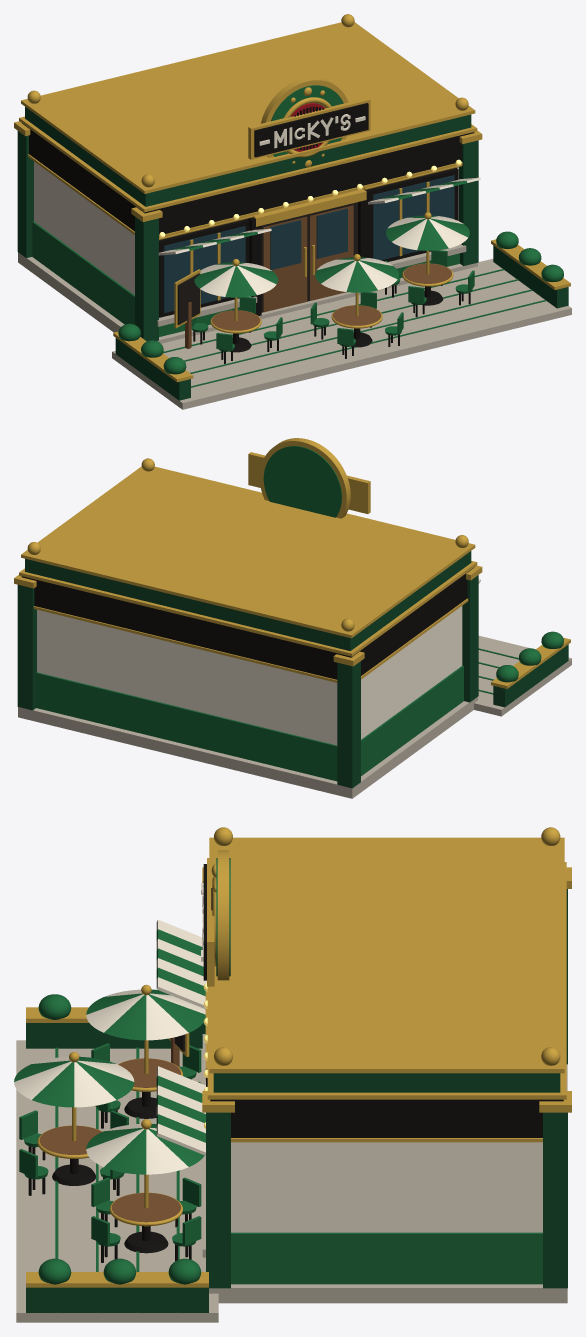
The model's file is mickys.glb.
3 views of the same model, one above another, from view 1: azimuth 30°, elevation 25°; view 2: azimuth 150°, elevation 25°; view 3: azimuth 270°, elevation 25° (orthographic). The views are drawn at different scales.
Parts seen in each view (by area): view 1: parapet_cap, terrace_slab, fascia_band, wall_body, parapet, wainscot, terrace, window_glass_right, window_glass_left, fascia_trim_top, plinth, pilaster_front_left (+33 smaller); view 2: parapet_cap, wall_body, wainscot, fascia_band, plinth, parapet, roundel_green_field, pilaster_back_left, fascia_trim_top, terrace_slab, pilaster_back_right, pilaster_front_left (+6 smaller); view 3: parapet_cap, wall_body, terrace_slab, wainscot, fascia_band, parapet, plinth, terrace_wall_right, pilaster_back_right, pilaster_front_right, fascia_trim_top, terrace (+24 smaller).
Part boxes in pixels (x1=…): parapet_cap: x1=21, y1=22, x2=475, y2=193; terrace_slab: x1=112, y1=258, x2=571, y2=409; fascia_band: x1=22, y1=123, x2=474, y2=235; wall_body: x1=34, y1=161, x2=458, y2=294; parapet: x1=25, y1=107, x2=471, y2=206; wainscot: x1=32, y1=221, x2=459, y2=336; terrace: x1=118, y1=231, x2=563, y2=387; window_glass_right: x1=373, y1=175, x2=454, y2=260; window_glass_left: x1=163, y1=226, x2=245, y2=313; fascia_trim_top: x1=19, y1=116, x2=477, y2=212; plinth: x1=18, y1=252, x2=477, y2=343; pilaster_front_left: x1=135, y1=217, x2=158, y2=341; parapet_cap: x1=21, y1=466, x2=475, y2=638; wall_body: x1=37, y1=606, x2=462, y2=745; wainscot: x1=36, y1=665, x2=463, y2=781; fascia_band: x1=21, y1=567, x2=474, y2=679; plinth: x1=18, y1=697, x2=477, y2=798; parapet: x1=25, y1=551, x2=471, y2=651; roundel_green_field: x1=263, y1=446, x2=341, y2=517; pilaster_back_left: x1=337, y1=661, x2=360, y2=788; fascia_trim_top: x1=19, y1=561, x2=477, y2=656; terrace_slab: x1=474, y1=635, x2=571, y2=716; pilaster_back_right: x1=17, y1=585, x2=36, y2=710; pilaster_front_left: x1=462, y1=575, x2=478, y2=702; parapet_cap: x1=209, y1=837, x2=564, y2=1073; wall_body: x1=231, y1=1142, x2=542, y2=1232; terrace_slab: x1=16, y1=1040, x2=218, y2=1322; wainscot: x1=231, y1=1232, x2=542, y2=1284; fascia_band: x1=210, y1=1099, x2=563, y2=1137; parapet: x1=213, y1=1073, x2=560, y2=1092; plinth: x1=209, y1=1064, x2=567, y2=1303; terrace_wall_right: x1=26, y1=1287, x2=208, y2=1312; pilaster_back_right: x1=543, y1=1112, x2=567, y2=1288; pilaster_front_right: x1=206, y1=1112, x2=230, y2=1288; fascia_trim_top: x1=207, y1=862, x2=566, y2=1099; terrace: x1=38, y1=994, x2=201, y2=1312.
Size of the model in its own units: 13.68 by 7.55 by 11.59.
